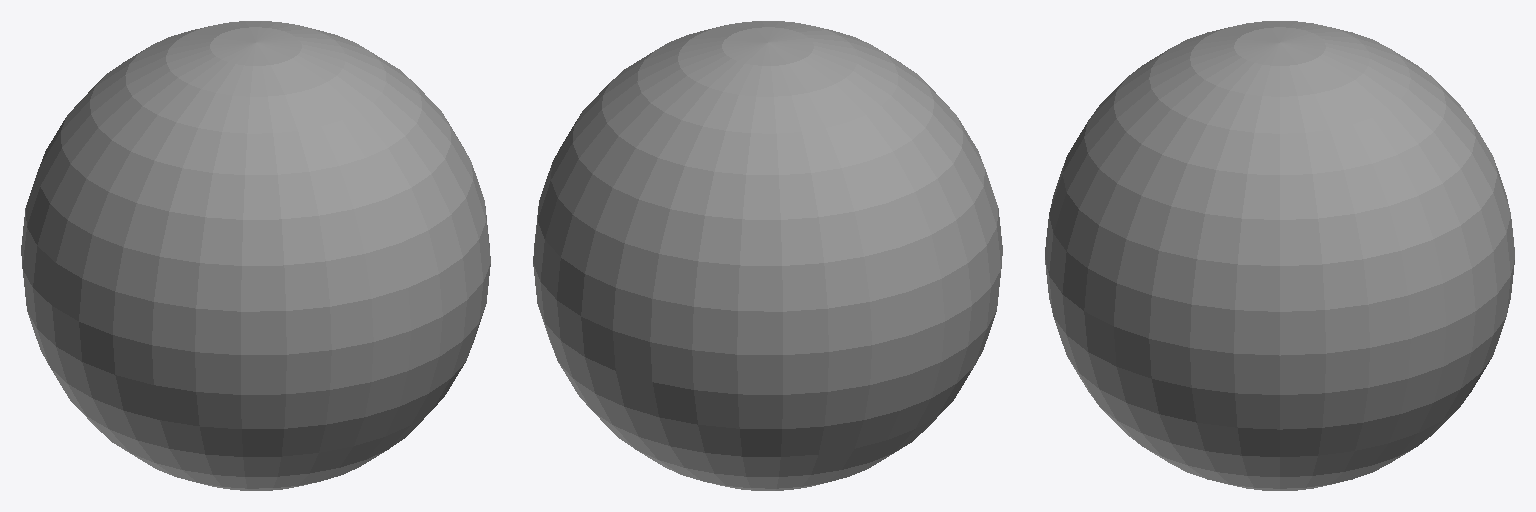
The model's file is globe.obj.
3 views of the same model, side by side, from view 1: azimuth 30°, elevation 25°; view 2: azimuth 150°, elevation 25°; view 3: azimuth 270°, elevation 25° (orthographic).
Visible parts, largest first — view 1: Sphere; view 2: Sphere; view 3: Sphere.
Part boxes in pixels (x1,y1,x2,y2): Sphere: (21,21,490,490); Sphere: (533,21,1002,490); Sphere: (1045,21,1514,490).
Bounding box in the file's own units: 2.04 × 2.04 × 2.04.